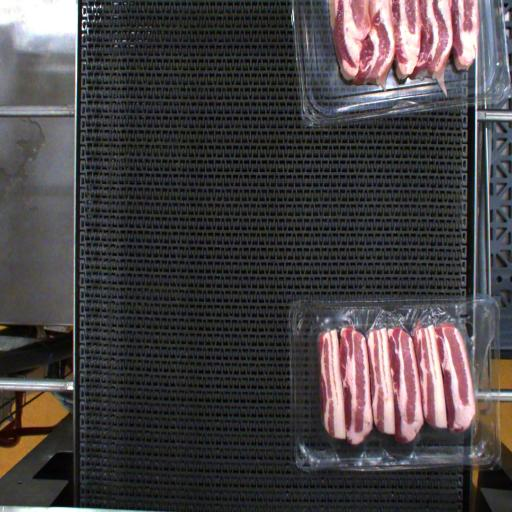unsealed: (304, 306, 490, 372)
